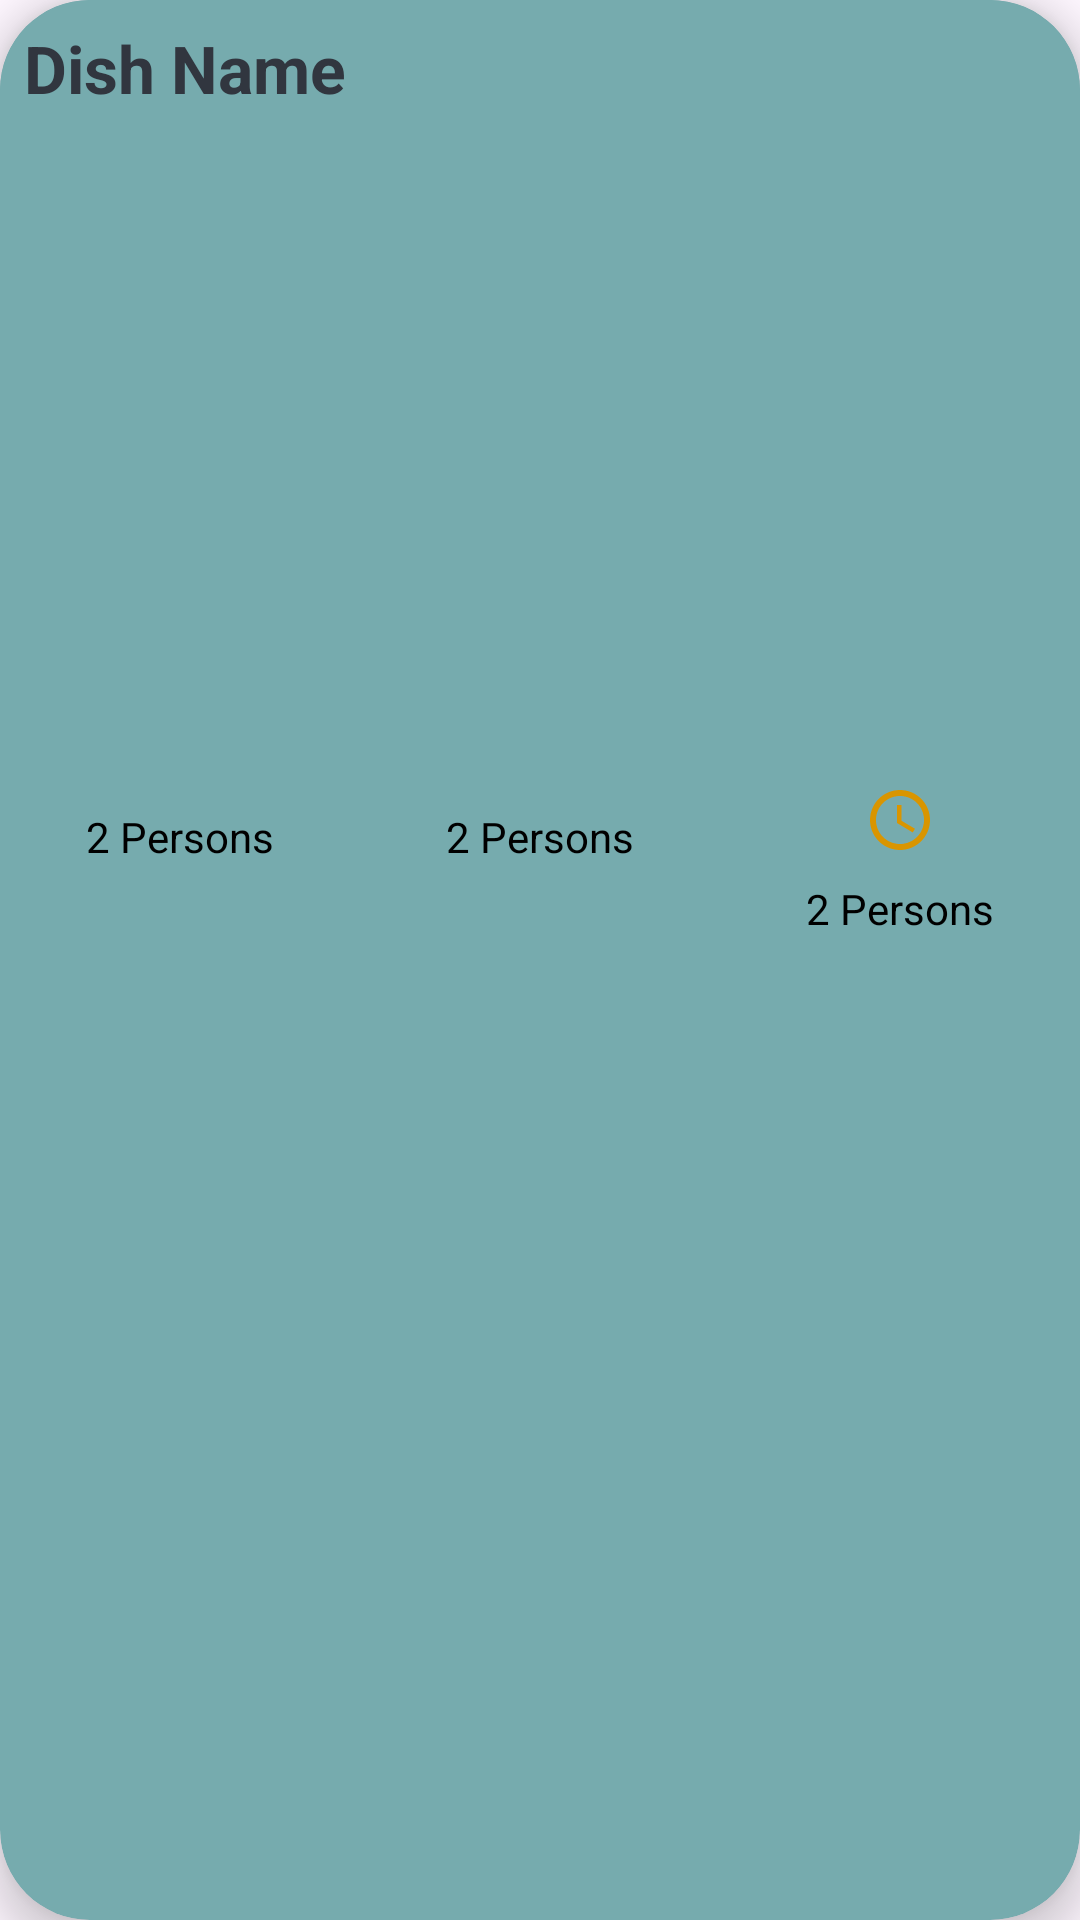

Named icons in this screenshot (1080×1920) and their centers, point (x, y):
time: point (900, 820)
